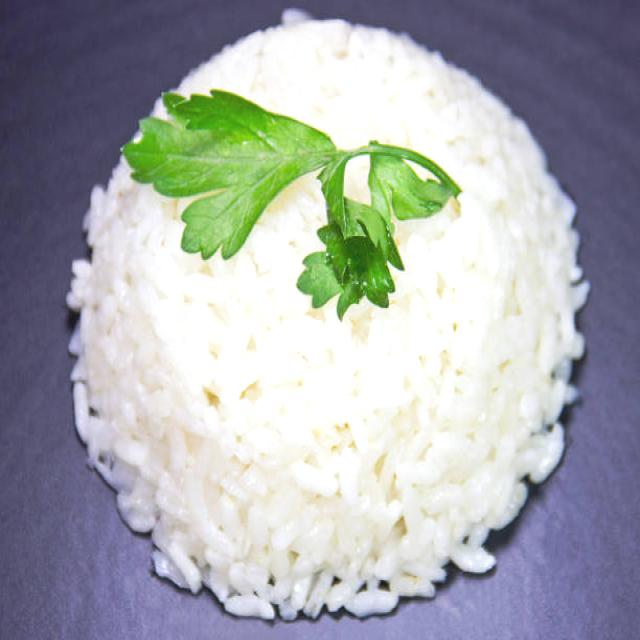Rice: (67, 7, 590, 621)
